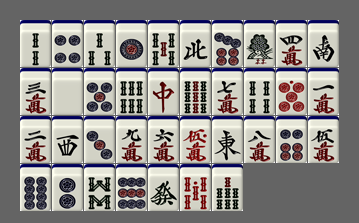0m: (180, 116, 211, 163)
0p: (276, 68, 307, 115)
0s: (180, 164, 211, 211)
1m: (308, 68, 339, 115)
1p: (116, 20, 147, 67)
1s: (244, 20, 275, 67)
1z: (212, 116, 243, 163)
2m: (20, 116, 51, 163)
2p: (52, 164, 83, 211)
2s: (20, 20, 51, 67)
2z: (308, 20, 339, 67)
3m: (20, 68, 51, 115)
3p: (84, 116, 115, 163)
3s: (84, 20, 115, 67)
3z: (52, 116, 83, 163)
4m: (276, 20, 307, 67)
4p: (52, 20, 83, 67)
4s: (244, 68, 275, 115)
4z: (180, 20, 211, 67)
5m: (308, 116, 339, 163)
5p: (84, 68, 115, 115)
5s: (148, 20, 179, 67)
5z: (52, 68, 83, 115)
6m: (148, 116, 179, 163)
6p: (276, 116, 307, 163)
6s: (116, 68, 147, 115)
6z: (148, 164, 179, 211)
7m: (212, 68, 243, 115)
7p: (212, 20, 243, 67)
7s: (212, 164, 243, 211)
7z: (148, 68, 179, 115)
8m: (244, 116, 275, 163)
8p: (20, 164, 51, 211)
8s: (84, 164, 115, 211)
9m: (116, 116, 147, 163)
9p: (116, 164, 147, 211)
9s: (180, 68, 211, 115)
